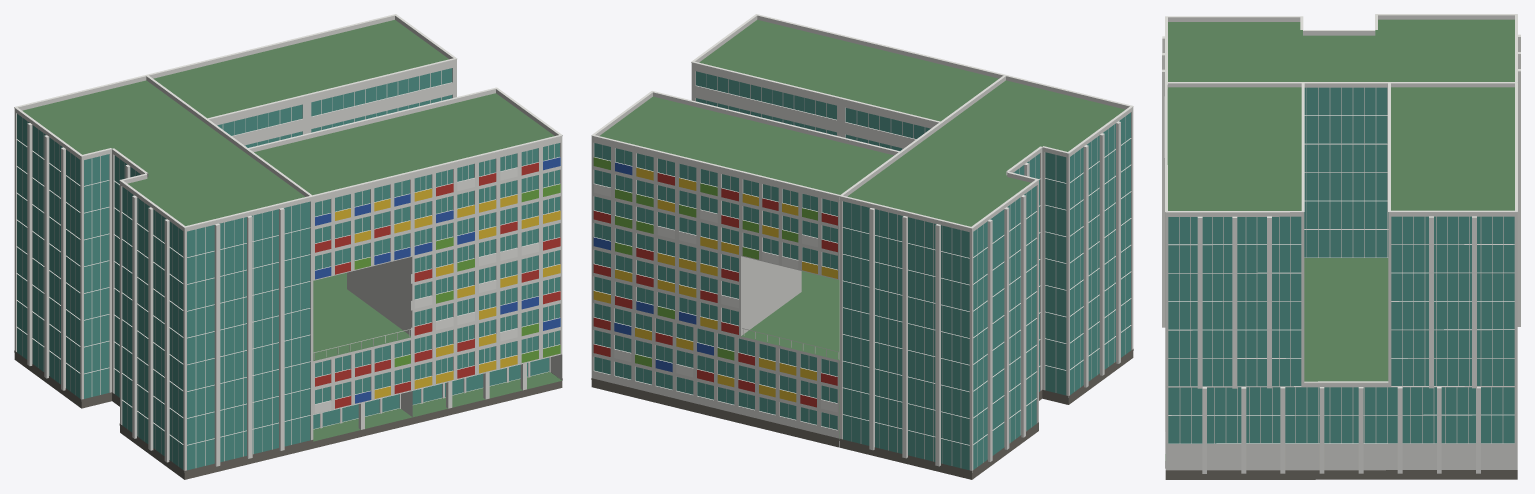
3 renders of one model, left to right at view 1: azimuth 30°, elevation 25°; view 2: azimuth 150°, elevation 25°; view 3: azimuth 270°, elevation 25°, orthographic. The views are drawn at different scales.
Parts seen in each view (by area): view 1: artCulture__glass, artCulture__roof, artCulture__wall, artCulture__trim, artCulture__frame, artCulture__parapet, artCulture__base, artCulture__panelY, artCulture__panelR, artCulture__panelB, artCulture__panelG, artCulture__column; view 2: artCulture__glass, artCulture__roof, artCulture__wall, artCulture__trim, artCulture__frame, artCulture__parapet, artCulture__base, artCulture__panelY, artCulture__panelR, artCulture__panelG, artCulture__panelB; view 3: artCulture__glass, artCulture__roof, artCulture__wall, artCulture__trim, artCulture__frame, artCulture__parapet, artCulture__base.
Boxes of the visible parts, left/top/right/bottom form: artCulture__glass: left=17, top=68, right=559, bottom=470; artCulture__roof: left=22, top=20, right=561, bottom=441; artCulture__wall: left=14, top=63, right=562, bottom=472; artCulture__trim: left=14, top=14, right=562, bottom=466; artCulture__frame: left=22, top=70, right=554, bottom=467; artCulture__parapet: left=14, top=15, right=562, bottom=231; artCulture__base: left=14, top=350, right=562, bottom=479; artCulture__panelY: left=335, top=188, right=560, bottom=398; artCulture__panelR: left=315, top=162, right=560, bottom=408; artCulture__panelB: left=315, top=157, right=560, bottom=403; artCulture__panelG: left=354, top=184, right=560, bottom=367; artCulture__column: left=358, top=362, right=526, bottom=429; artCulture__glass: left=594, top=71, right=1130, bottom=470; artCulture__roof: left=599, top=19, right=1125, bottom=438; artCulture__wall: left=591, top=66, right=1133, bottom=472; artCulture__trim: left=591, top=14, right=1133, bottom=466; artCulture__frame: left=602, top=74, right=1125, bottom=467; artCulture__parapet: left=591, top=15, right=1133, bottom=232; artCulture__base: left=591, top=349, right=1133, bottom=479; artCulture__panelY: left=593, top=167, right=837, bottom=402; artCulture__panelR: left=593, top=173, right=837, bottom=407; artCulture__panelG: left=593, top=157, right=817, bottom=367; artCulture__panelB: left=593, top=162, right=713, bottom=372; artCulture__glass: left=1168, top=87, right=1514, bottom=443; artCulture__roof: left=1165, top=19, right=1514, bottom=460; artCulture__wall: left=1165, top=87, right=1517, bottom=470; artCulture__trim: left=1162, top=14, right=1520, bottom=473; artCulture__frame: left=1168, top=87, right=1514, bottom=443; artCulture__parapet: left=1165, top=15, right=1517, bottom=386; artCulture__base: left=1165, top=461, right=1517, bottom=479.
Bounding box in the file's own units: 57.5 × 35.8 × 43.45.
